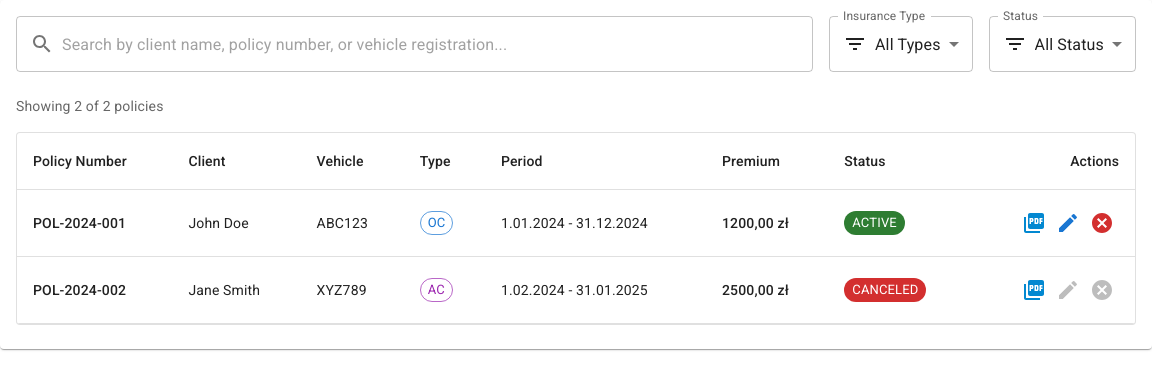
PolicyList › filters policies by status
Press the mouse on the dropdown labelled "Status" at (1069, 44), box [1034,34,1104,54]
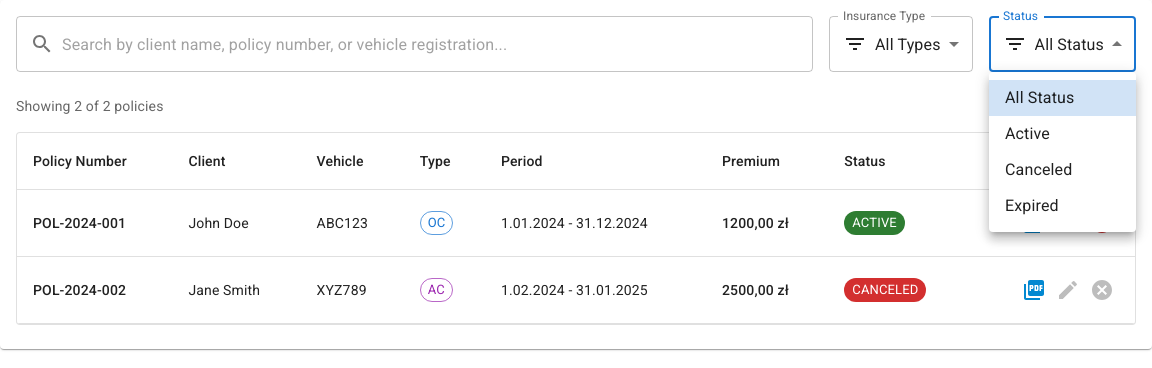
Click the option "Active" at (1028, 134), box [1005,124,1050,143]
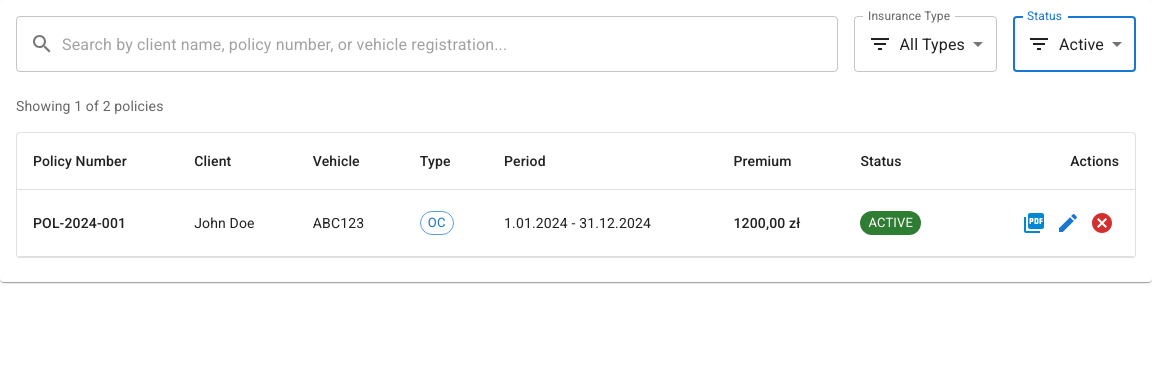
expect the text "POL-2024-001" is shown: met, box [33,215,126,231]
expect the text "POL-2024-002" is gone: met
